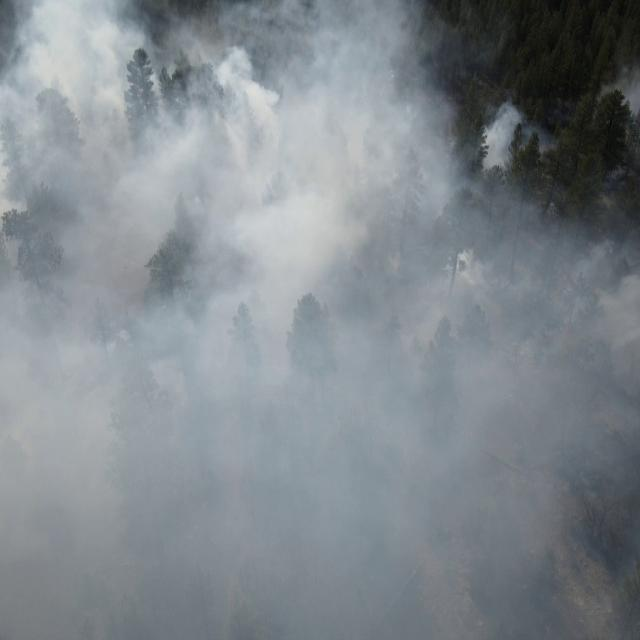fire: (548, 321, 574, 343)
smoke: (0, 2, 640, 640)
